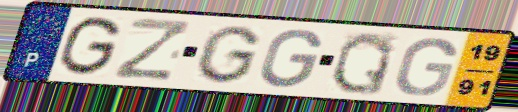G: (191, 23, 265, 86), (56, 15, 125, 78), (257, 27, 325, 90), (392, 36, 460, 98)
Q: (327, 30, 398, 97)
Z: (110, 15, 195, 82)
